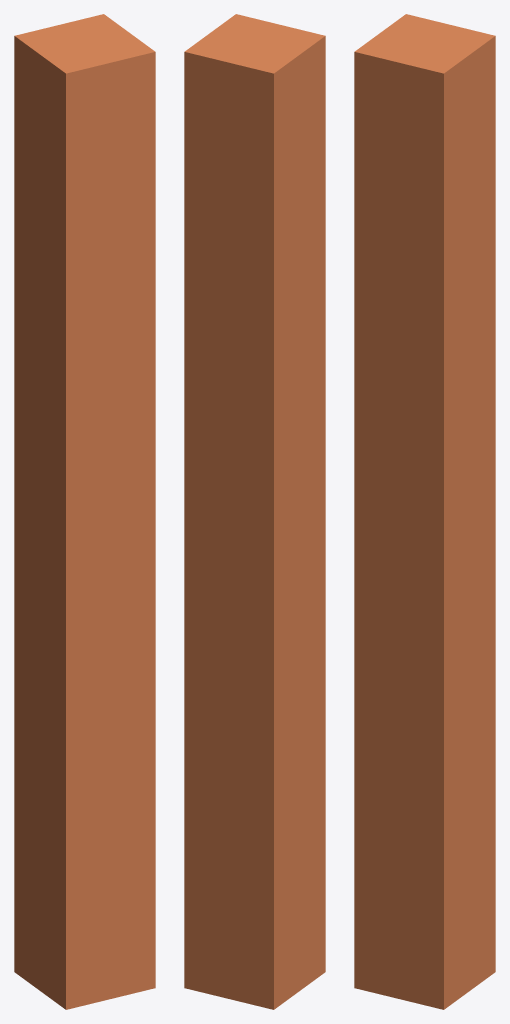
The model's file is pole.obj.
3 renders of one model, left to right at view 1: azimuth 30°, elevation 25°; view 2: azimuth 150°, elevation 25°; view 3: azimuth 330°, elevation 25°, orthographic.
Visible parts, largest first — view 1: poles; view 2: poles; view 3: poles.
Boxes of the visible parts, left/top/right/bottom form: poles: left=14, top=14, right=155, bottom=1009; poles: left=184, top=14, right=325, bottom=1009; poles: left=354, top=14, right=495, bottom=1009.
Size of the model in its own units: 0.1 by 1 by 0.1.
